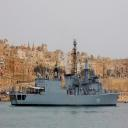Fragata: (10, 36, 121, 108)
